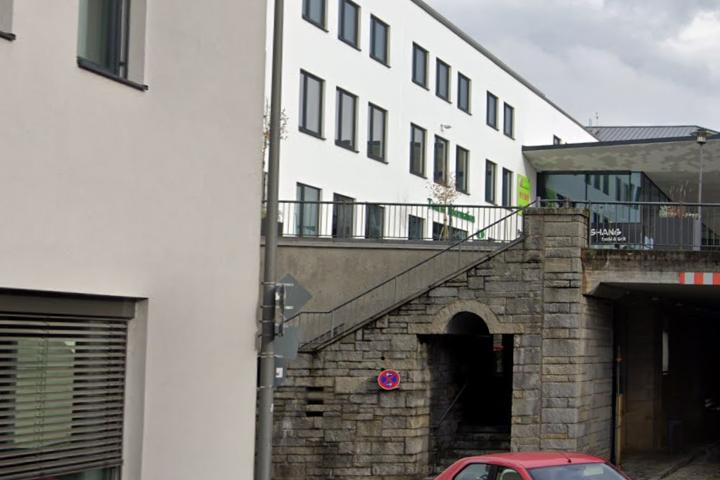traffic_sign: (378, 369, 400, 390)
